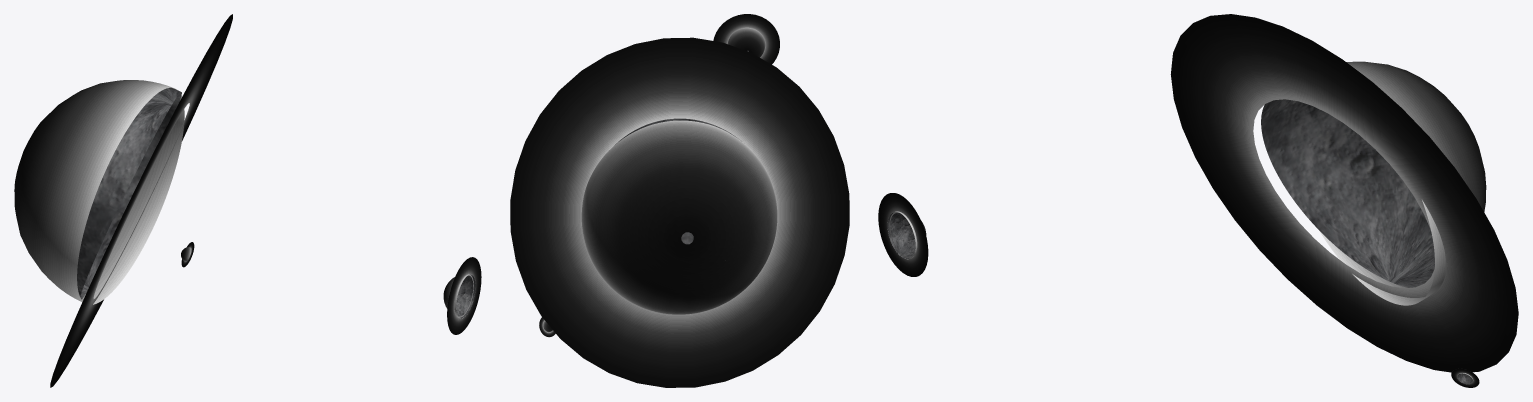
Rendered from env_space_kashyyyk_01_pre.glb.
3 views of the same model, side by side, from view 1: azimuth 30°, elevation 25°; view 2: azimuth 150°, elevation 25°; view 3: azimuth 270°, elevation 25° (orthographic). The views are drawn at different scales.
Parts seen in each view (by area): view 1: planet_fresnel_mesh, planet_body_mesh (×2), planet_glow_mesh (×2); view 2: planet_glow_mesh (×2), planet_fresnel_mesh (×2), planet_body_mesh; view 3: planet_glow_mesh (×2), planet_body_mesh (×2), planet_fresnel_mesh.
Boxes of the visible parts, left/top/right/bottom form: planet_fresnel_mesh: left=14, top=80, right=184, bottom=304; planet_body_mesh (×2): left=77, top=87, right=475, bottom=318; planet_glow_mesh (×2): left=50, top=14, right=481, bottom=387; planet_glow_mesh (×2): left=510, top=14, right=849, bottom=387; planet_fresnel_mesh (×2): left=581, top=27, right=777, bottom=314; planet_body_mesh: left=615, top=118, right=741, bottom=260; planet_glow_mesh (×2): left=878, top=14, right=1518, bottom=372; planet_body_mesh (×2): left=887, top=99, right=1434, bottom=287; planet_fresnel_mesh: left=1319, top=61, right=1486, bottom=305.
Bounding box in the file's own units: 843 × 987 × 1489.
Materials: 3 (3 with a texture image).
